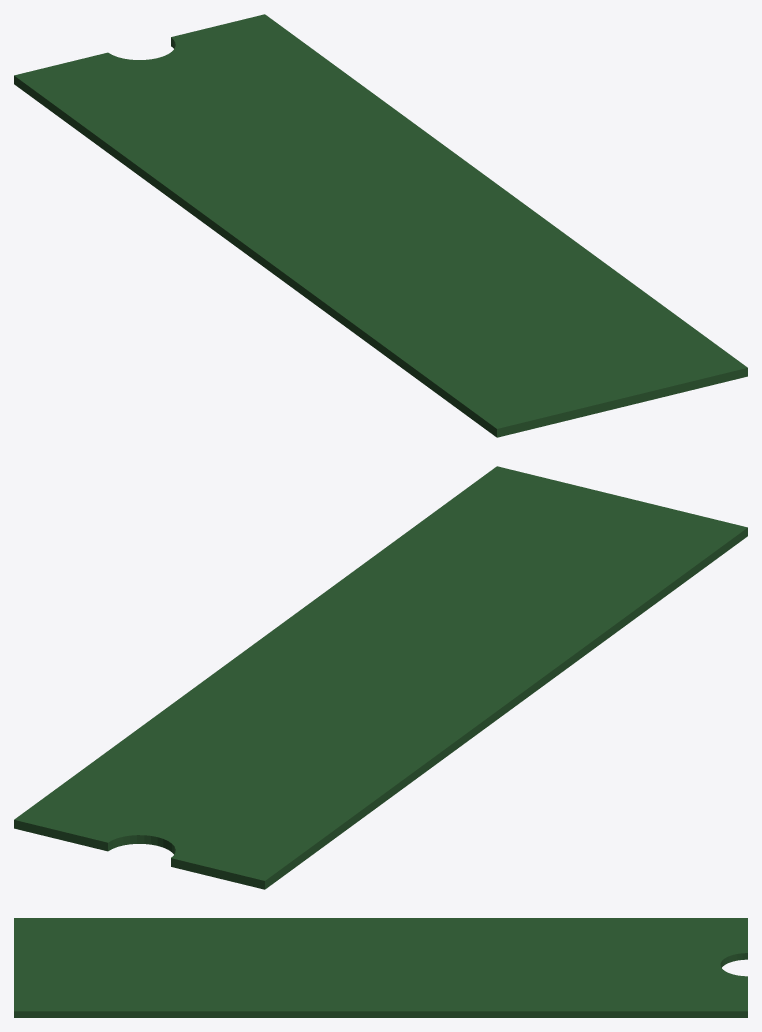
File: PoolTable.fbx_GroundLevel1.fbx
The picture shows the model from 3 angles, top to bottom: view 1: azimuth 30°, elevation 25°; view 2: azimuth 150°, elevation 25°; view 3: azimuth 270°, elevation 25°; orthographic projection. The views are drawn at different scales.
Parts seen in each view (by area): view 1: GroundLevel1; view 2: GroundLevel1; view 3: GroundLevel1.
Part boxes in pixels (x1,y1,x2,y2): GroundLevel1: [14, 14, 747, 437]; GroundLevel1: [14, 466, 747, 889]; GroundLevel1: [14, 918, 747, 1017].
Size of the model in its own units: 6 by 0.2 by 20.
